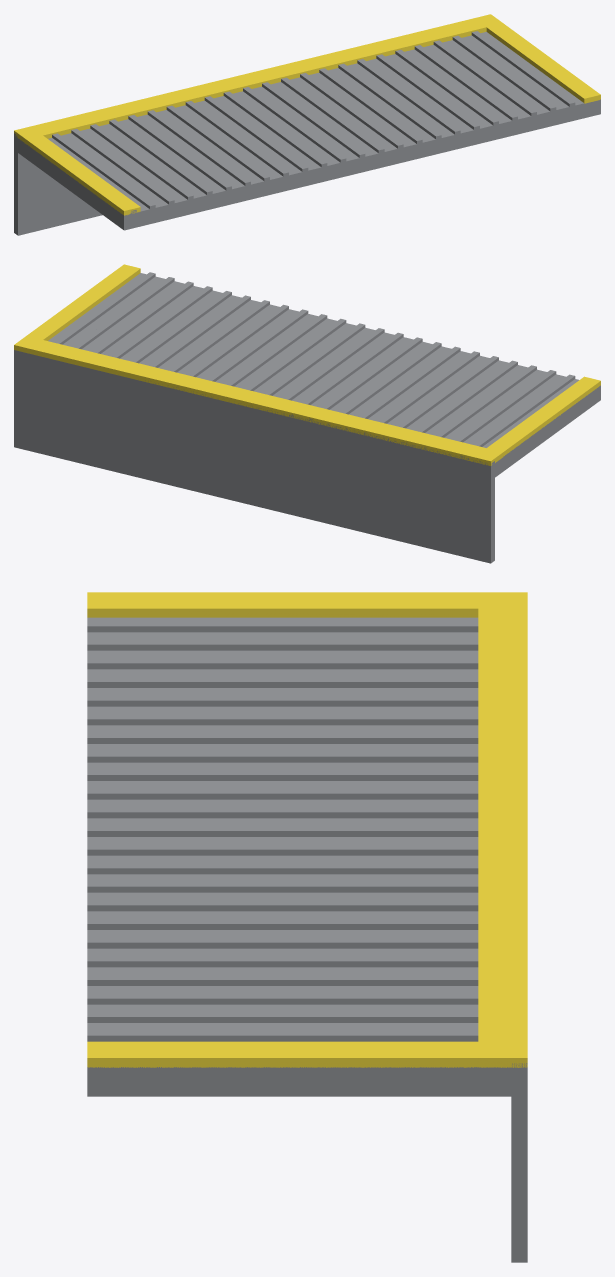
File: escalator_step.gltf
3 views of the same model, one above another, from view 1: azimuth 30°, elevation 25°; view 2: azimuth 150°, elevation 25°; view 3: azimuth 270°, elevation 25° (orthographic). The views are drawn at different scales.
Parts seen in each view (by area): view 1: Step; view 2: Step; view 3: Step.
Boxes of the visible parts, x1,y1,x2,y2 form: Step: [14, 14, 600, 235]; Step: [14, 264, 600, 563]; Step: [87, 592, 527, 1262].
Bounding box in the file's own units: 1 × 0.205 × 0.4.
